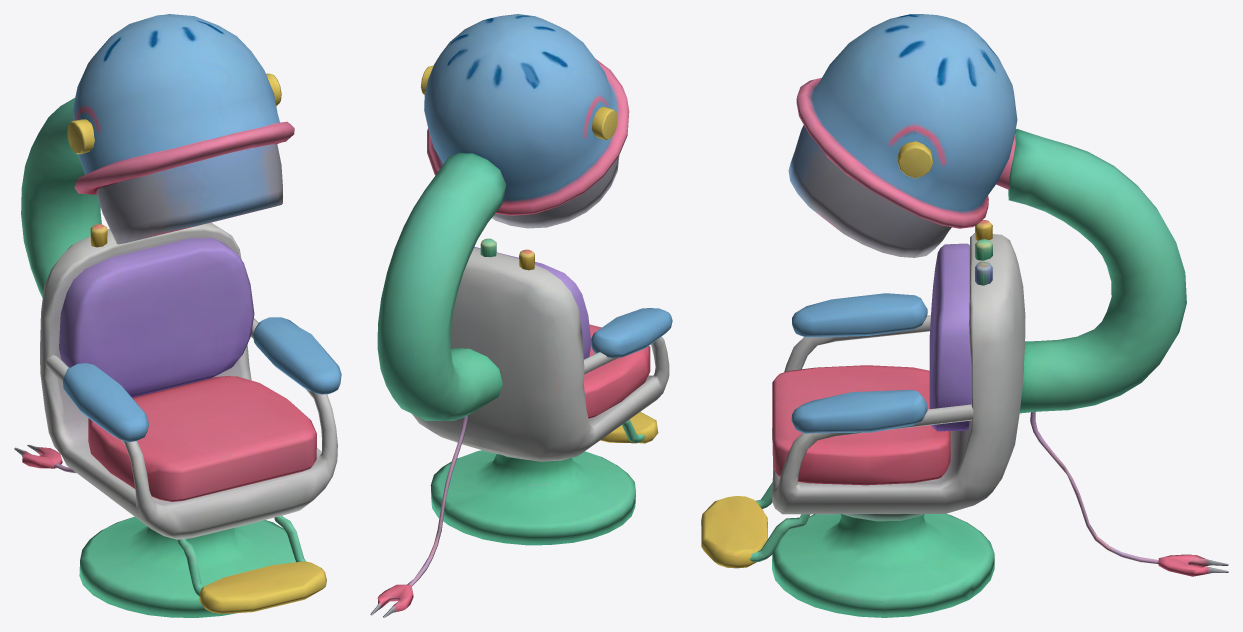
The model's file is salon-dryer-chair.glb.
The picture shows the model from 3 angles, left to right: view 1: azimuth 30°, elevation 25°; view 2: azimuth 150°, elevation 25°; view 3: azimuth 270°, elevation 25°; orthographic projection. The views are drawn at different scales.
Parts seen in each view (by area): view 1: geometry_0; view 2: geometry_0; view 3: geometry_0.
Part boxes in pixels (left/top/right/bottom): geometry_0: left=14, top=14, right=341, bottom=617; geometry_0: left=370, top=14, right=672, bottom=617; geometry_0: left=701, top=14, right=1228, bottom=617.
Size of the model in its own units: 0.4634 by 1 by 0.8768.
Materials: 1 (1 with a texture image).
